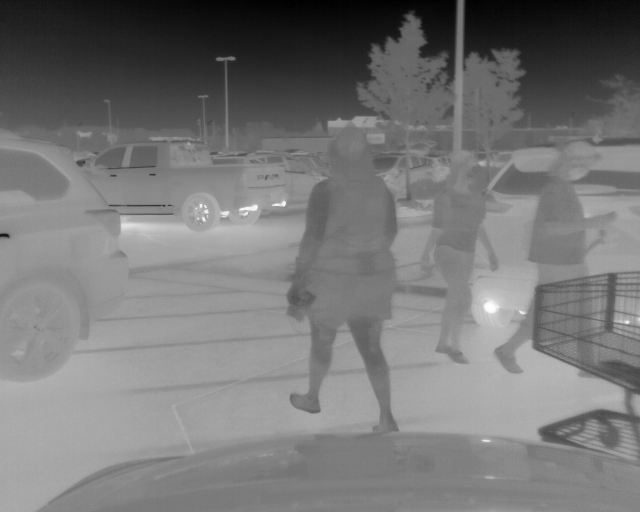car: (1, 129, 133, 384), (469, 139, 640, 328), (75, 137, 285, 231), (223, 151, 328, 222), (368, 153, 435, 201), (430, 153, 452, 186)
people: (286, 133, 401, 434), (491, 142, 618, 376), (422, 151, 497, 364)
